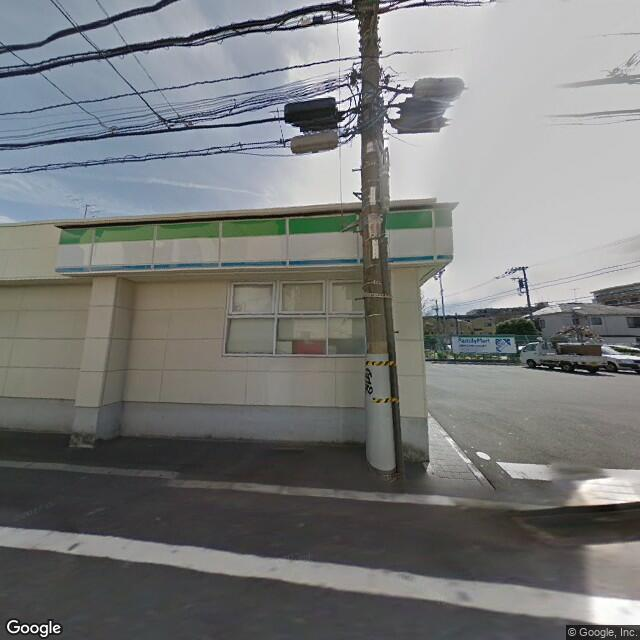family_mart: (56, 202, 454, 276)
